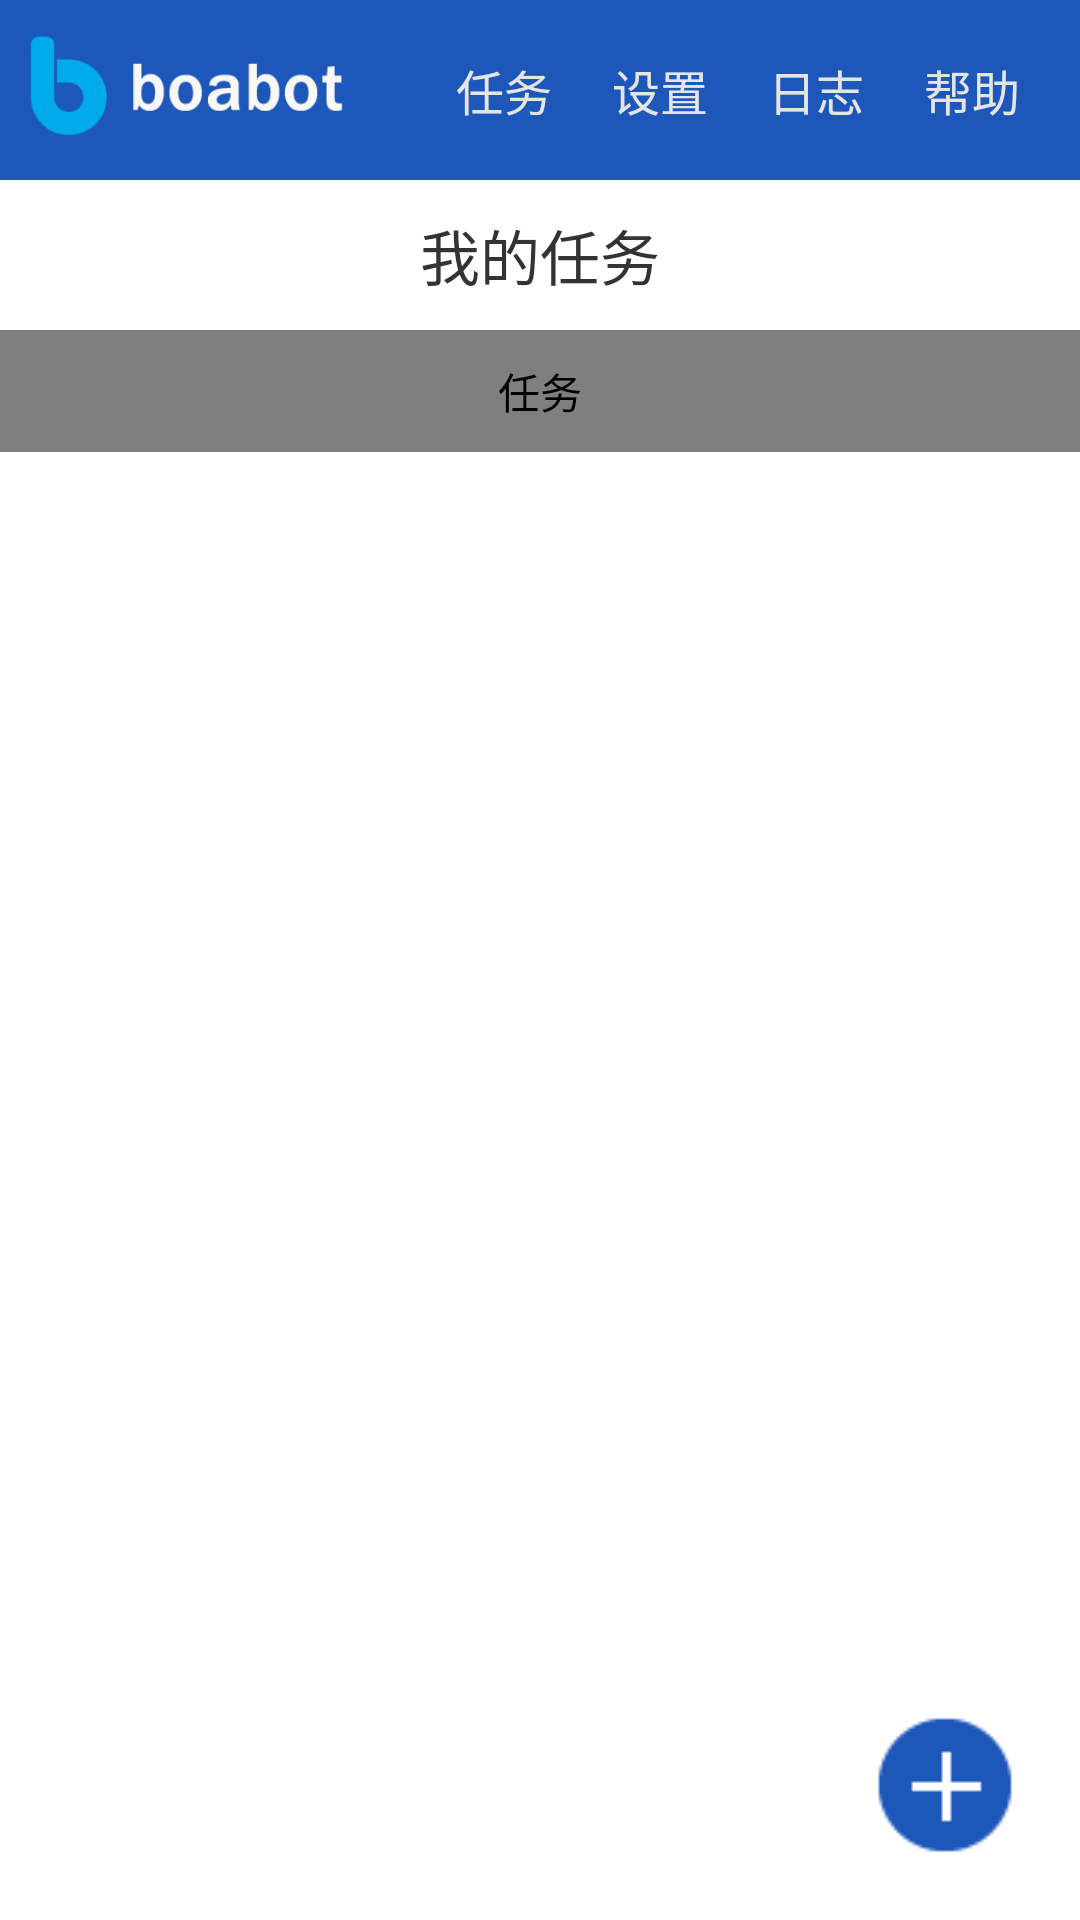

Locate icon controls on the screen. Image size 1080px×1920px, boxes as (x1, y1, x2, y2).
添加: (878, 1718, 1012, 1852)
